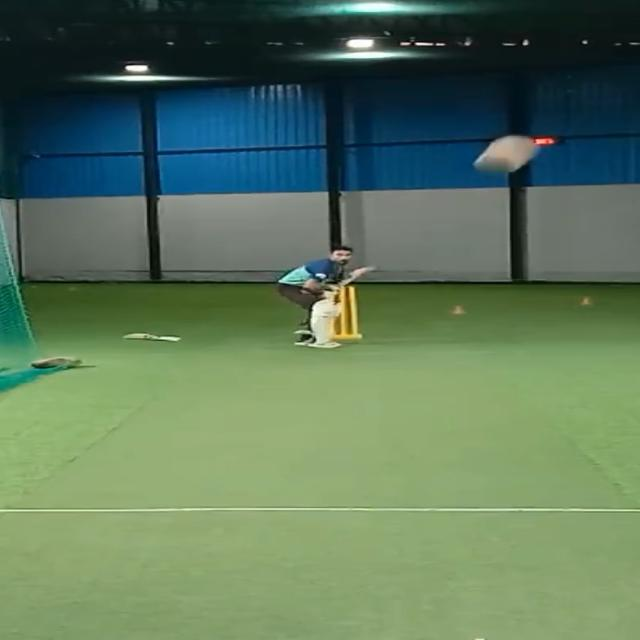ball: (469, 147, 523, 177)
